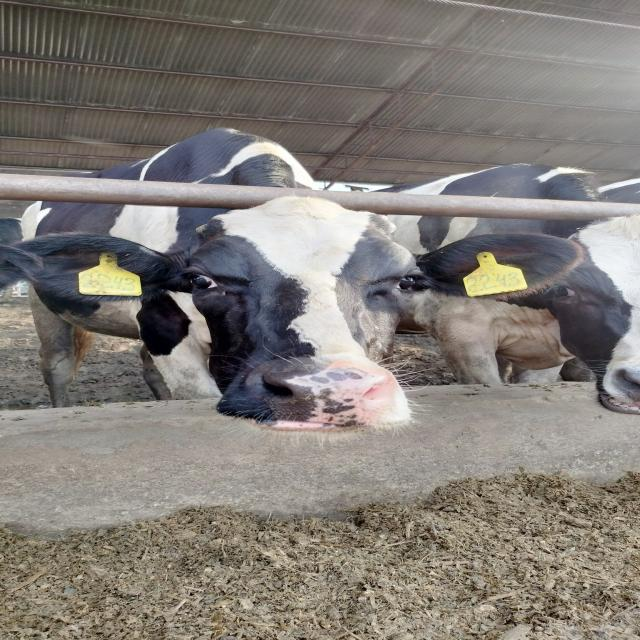muzzles: (242, 360, 412, 435)
